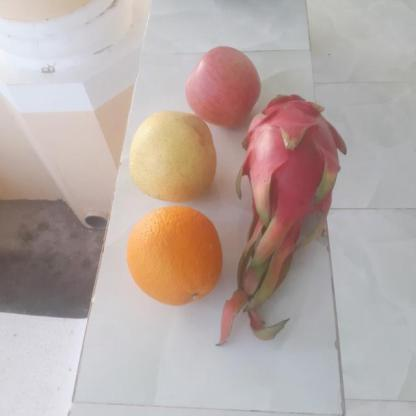apple: (186, 46, 265, 126)
orange: (123, 207, 226, 304)
pear: (124, 111, 222, 201)
pitaya: (240, 93, 352, 224)
